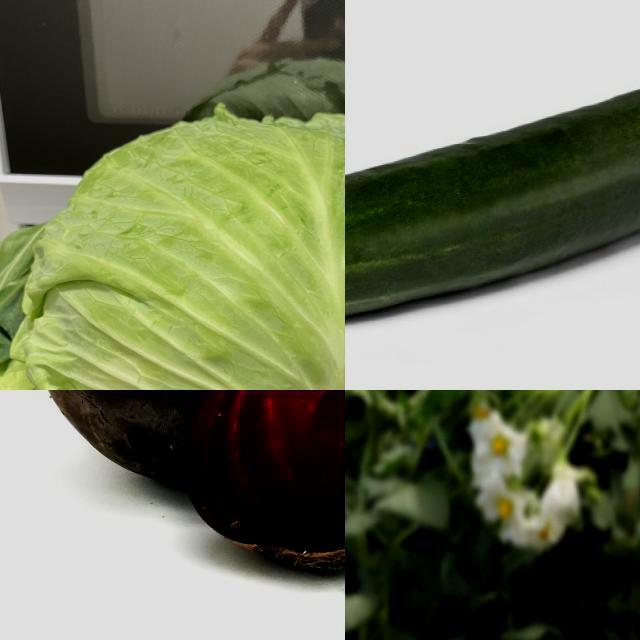beet: (40, 391, 346, 575)
cabbage: (1, 102, 346, 391)
cucumber: (346, 72, 640, 332)
